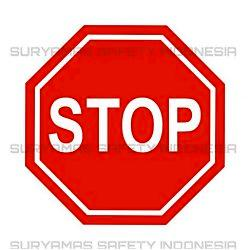Stop: (27, 26, 223, 222)
